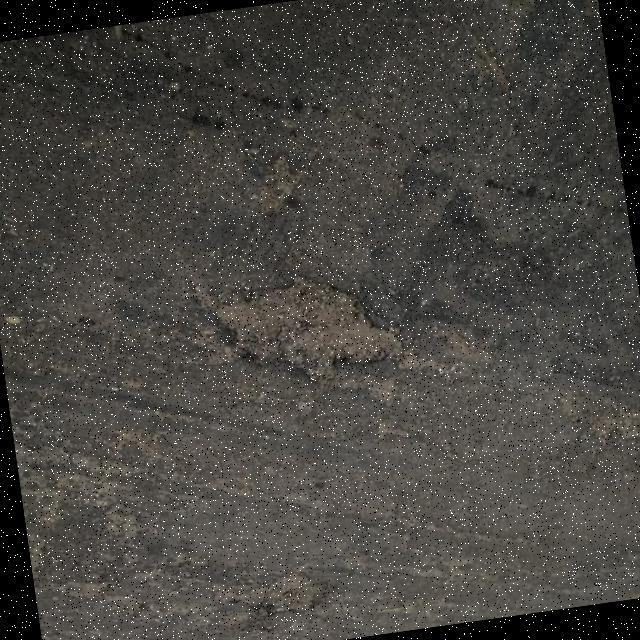Pothole: (217, 275, 401, 382)
